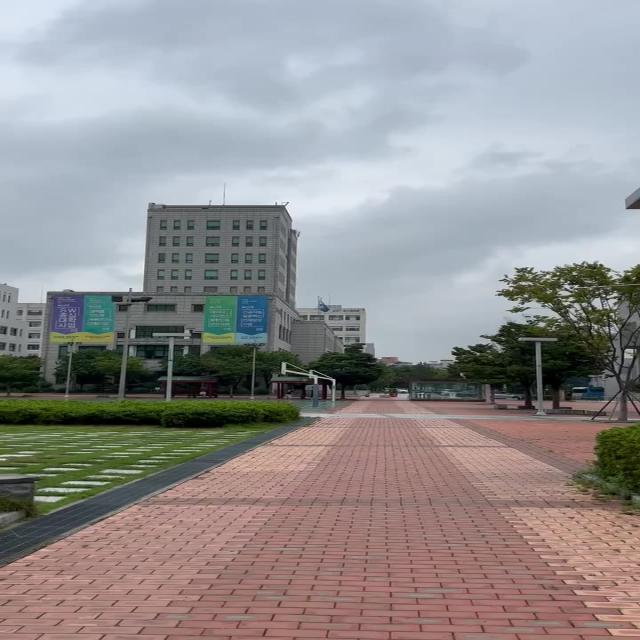building: (142, 200, 295, 300)
